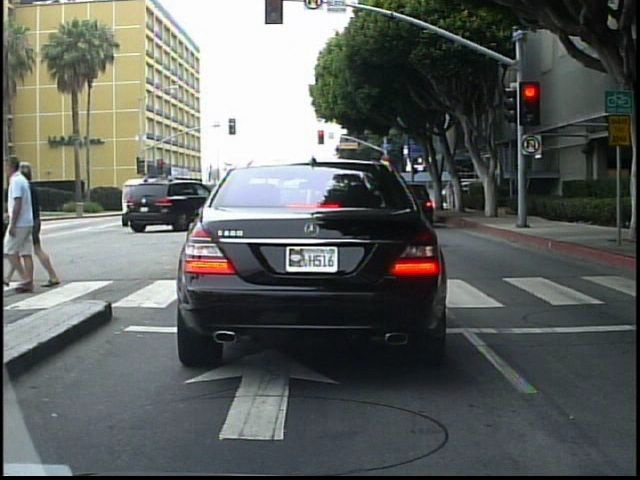person: (10, 150, 62, 297), (22, 153, 52, 294), (443, 180, 455, 212)
